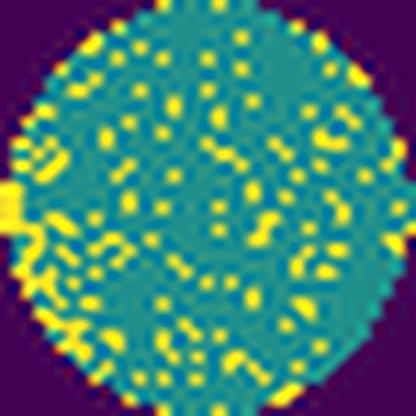Edge-Loc: (0, 177, 70, 313), (35, 305, 100, 365)
